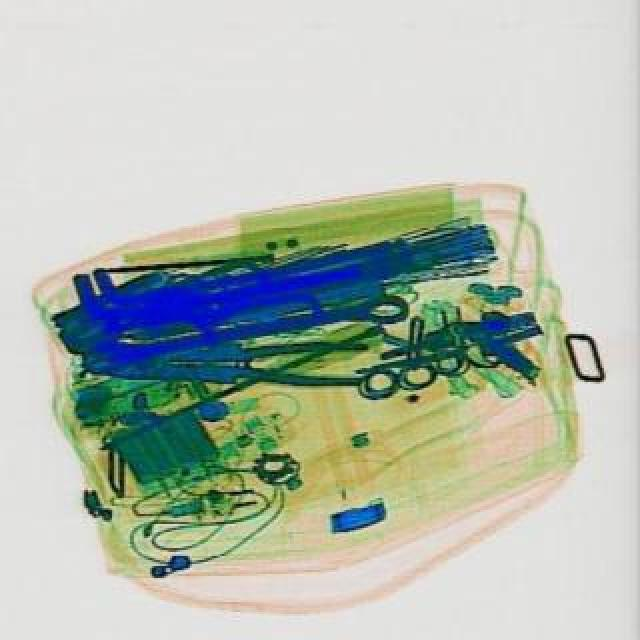scissors: (90, 290, 416, 378)
wrench: (96, 340, 374, 392)
